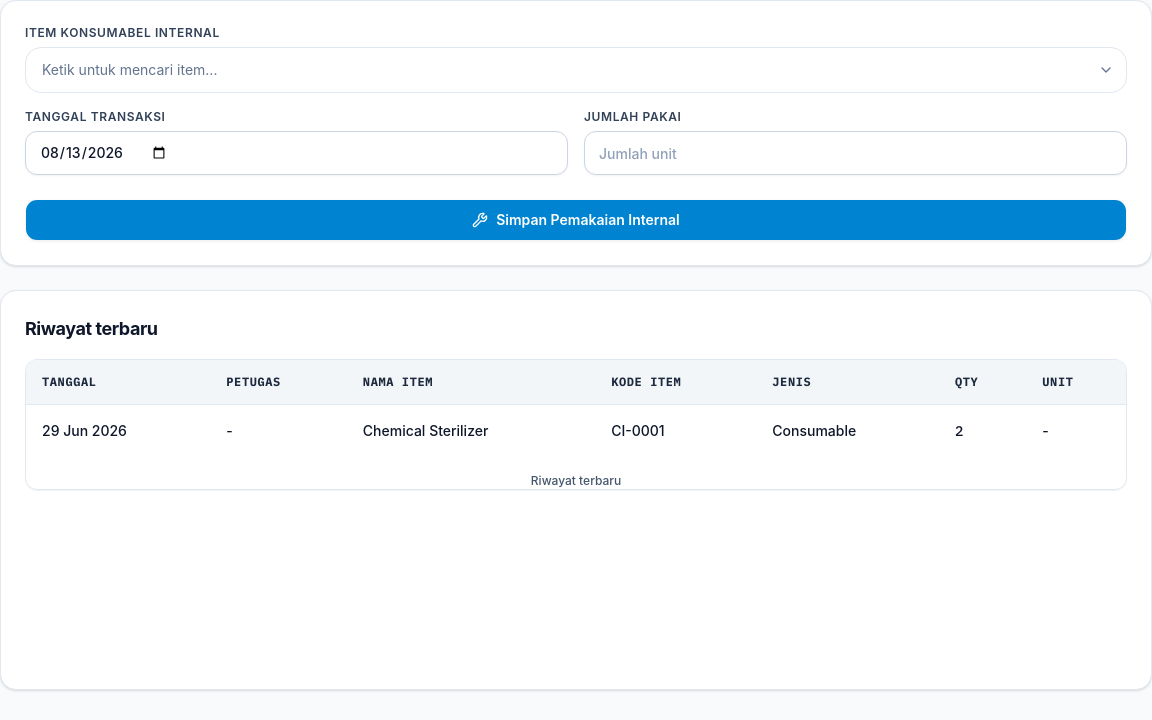
Test case: CSSD remaining transaction pages › renders internal usage with consumable-internal-only picker and usage history
Focus the field labelled "Item Konsumabel Internal" at x=576, y=70, box 42,60 -> 1110,80
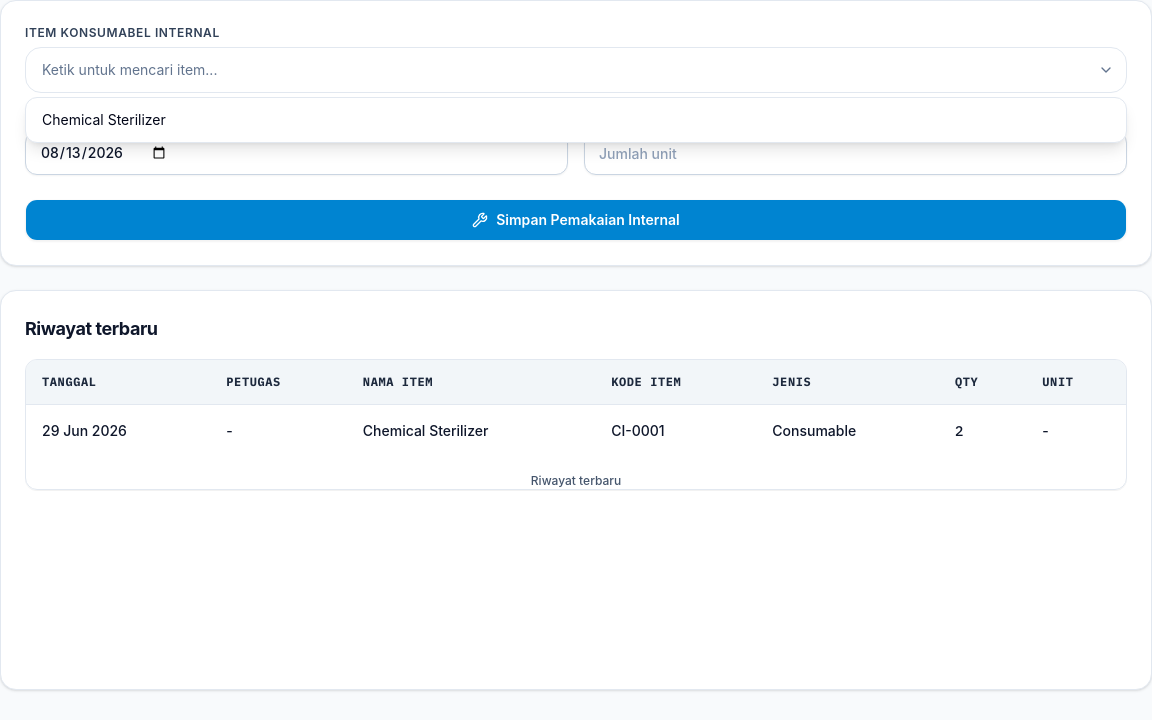
Expected: the number field labelled "Jumlah Pakai" is shown, 584,131 -> 1127,175
Now the text "Chemical Sterilizer" is shown, box 42,111 -> 166,128
